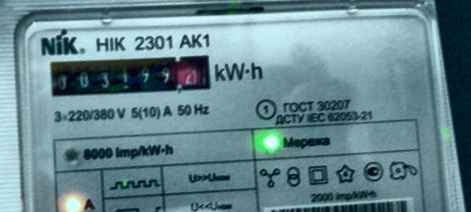0: (53, 69, 69, 90), (76, 67, 90, 88)
1: (118, 62, 130, 82)
3: (98, 68, 109, 89)
6: (182, 70, 194, 87)
9: (138, 63, 150, 83), (159, 64, 171, 84)
screen: (40, 33, 220, 118)
